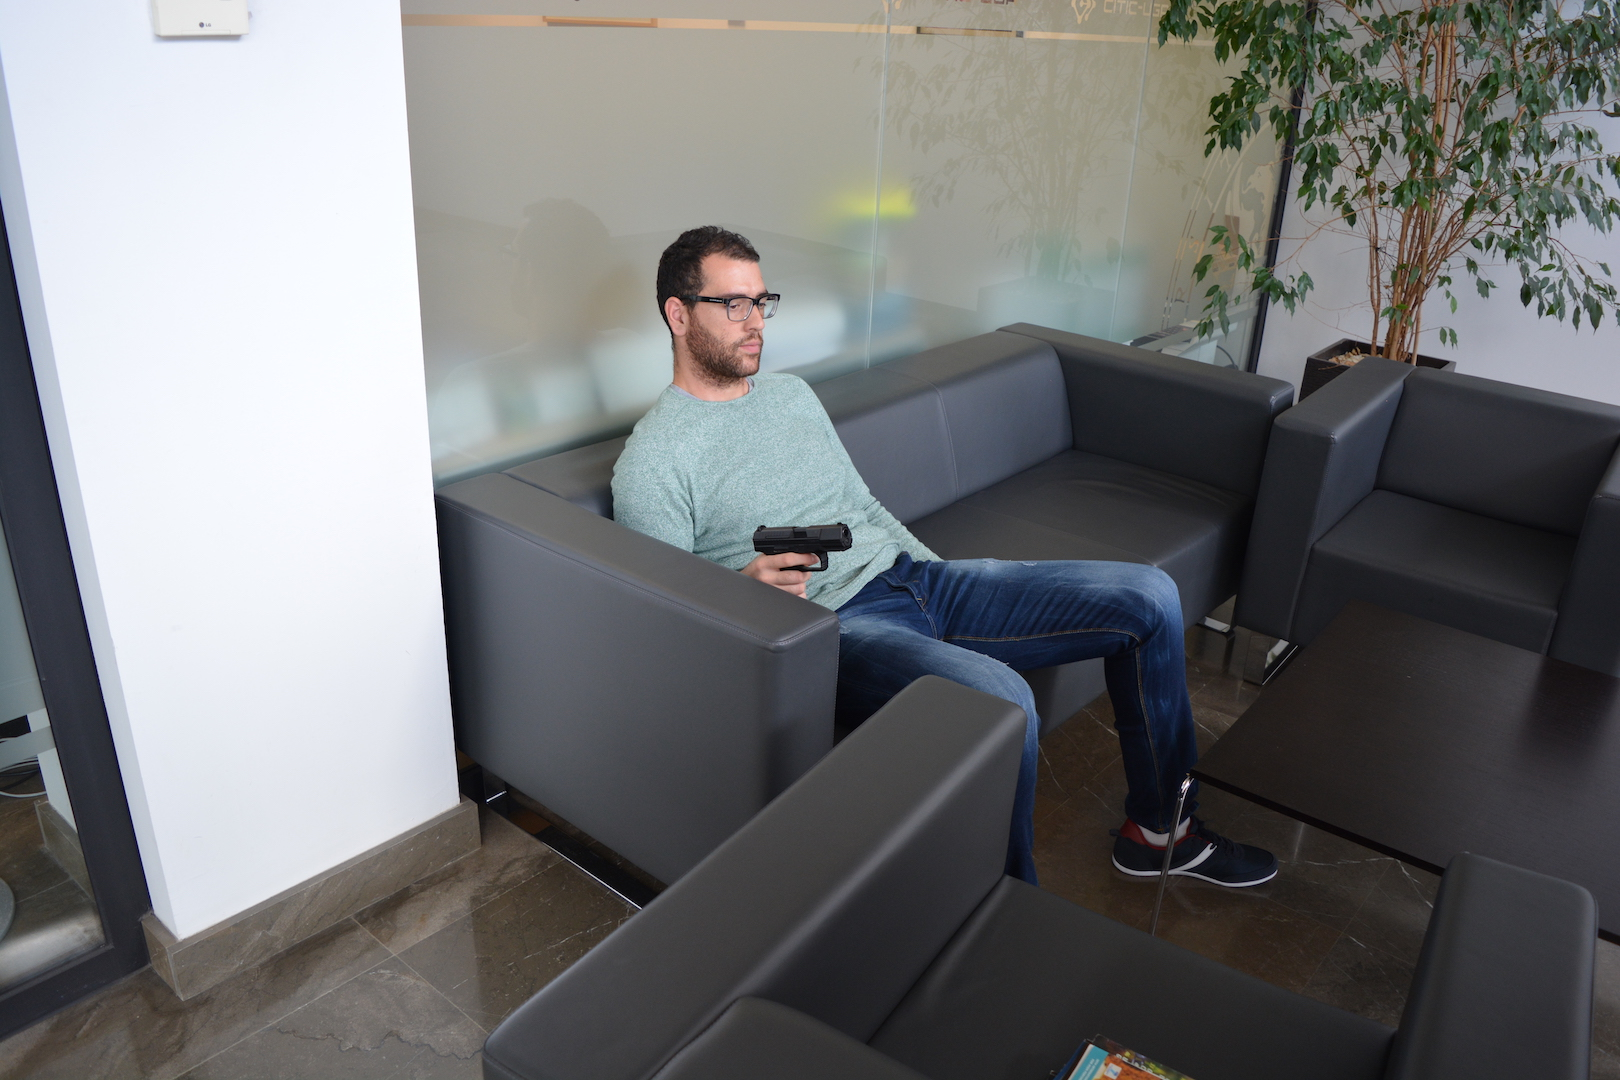pistol: (753, 521, 855, 573)
